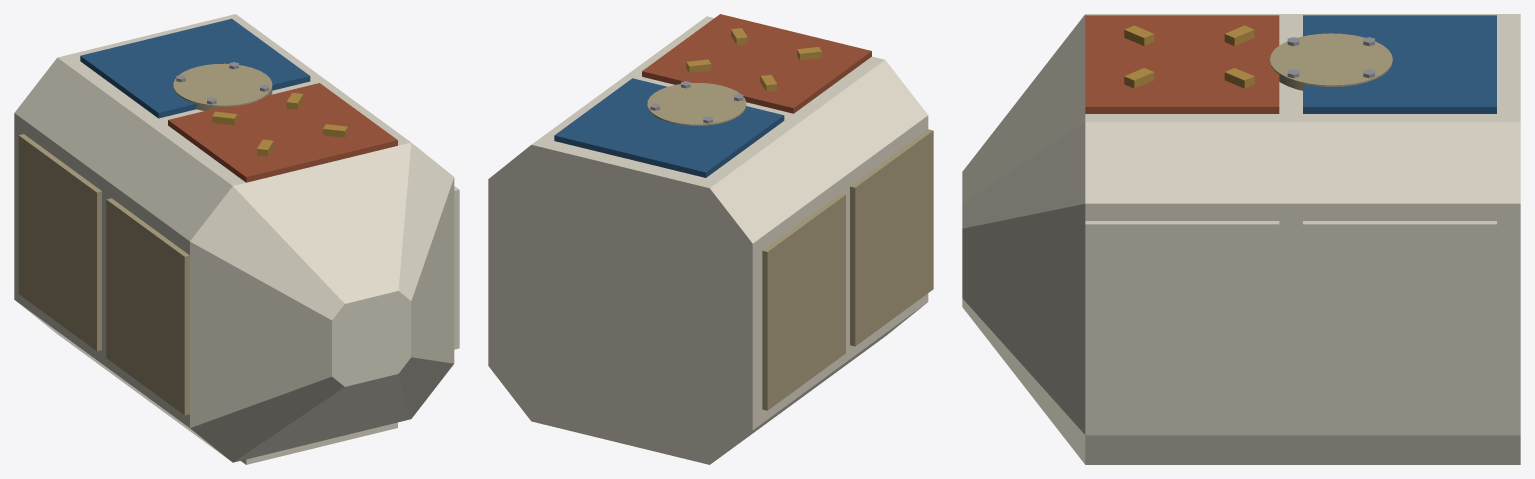
Rendered from pellet_shell.obj.
3 views of the same model, side by side, from view 1: azimuth 30°, elevation 25°; view 2: azimuth 150°, elevation 25°; view 3: azimuth 270°, elevation 25° (orthographic). The views are drawn at different scales.
Parts seen in each view (by area): view 1: pellet_shell; view 2: pellet_shell; view 3: pellet_shell.
Boxes of the visible parts, x1,y1,x2,y2 form: pellet_shell: [14, 14, 459, 464]; pellet_shell: [488, 14, 933, 464]; pellet_shell: [962, 14, 1520, 464].
Bounding box in the file's own units: 0.832 × 0.851 × 1.18.
